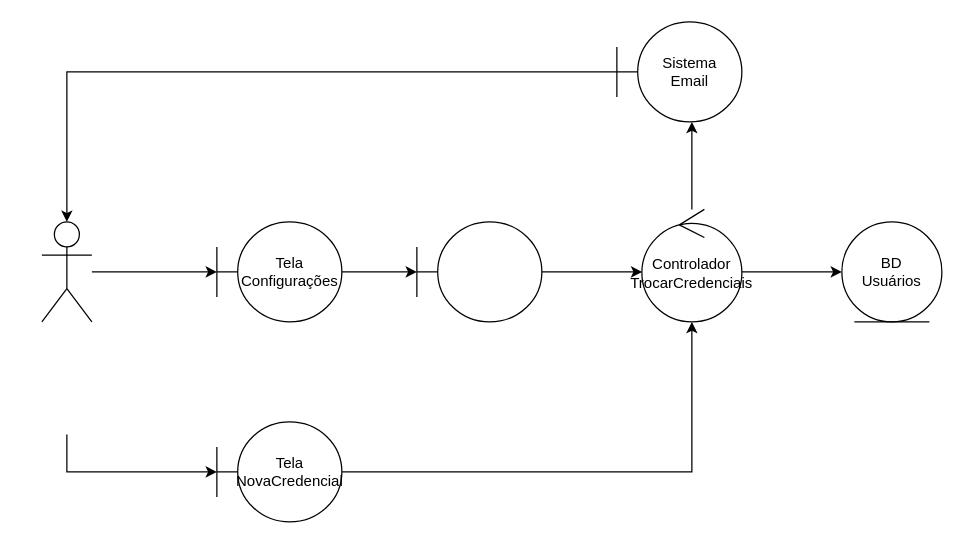
Image size: 964x544. Some labels were removed from this diagram. Here are the shapes that lost their labels. From the top down, the centre of each, then its label:
At (66,271): "Aluno Monitor Estagiário Autor de TCC Professor".
At (479,271): "Tela TrocarCredenciais".
